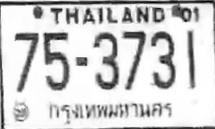1: (186, 30, 195, 88)
3: (92, 31, 118, 89), (150, 30, 175, 88)
5: (42, 30, 70, 90)
7: (14, 31, 38, 92), (122, 30, 145, 89)
BKK: (44, 98, 180, 126)
